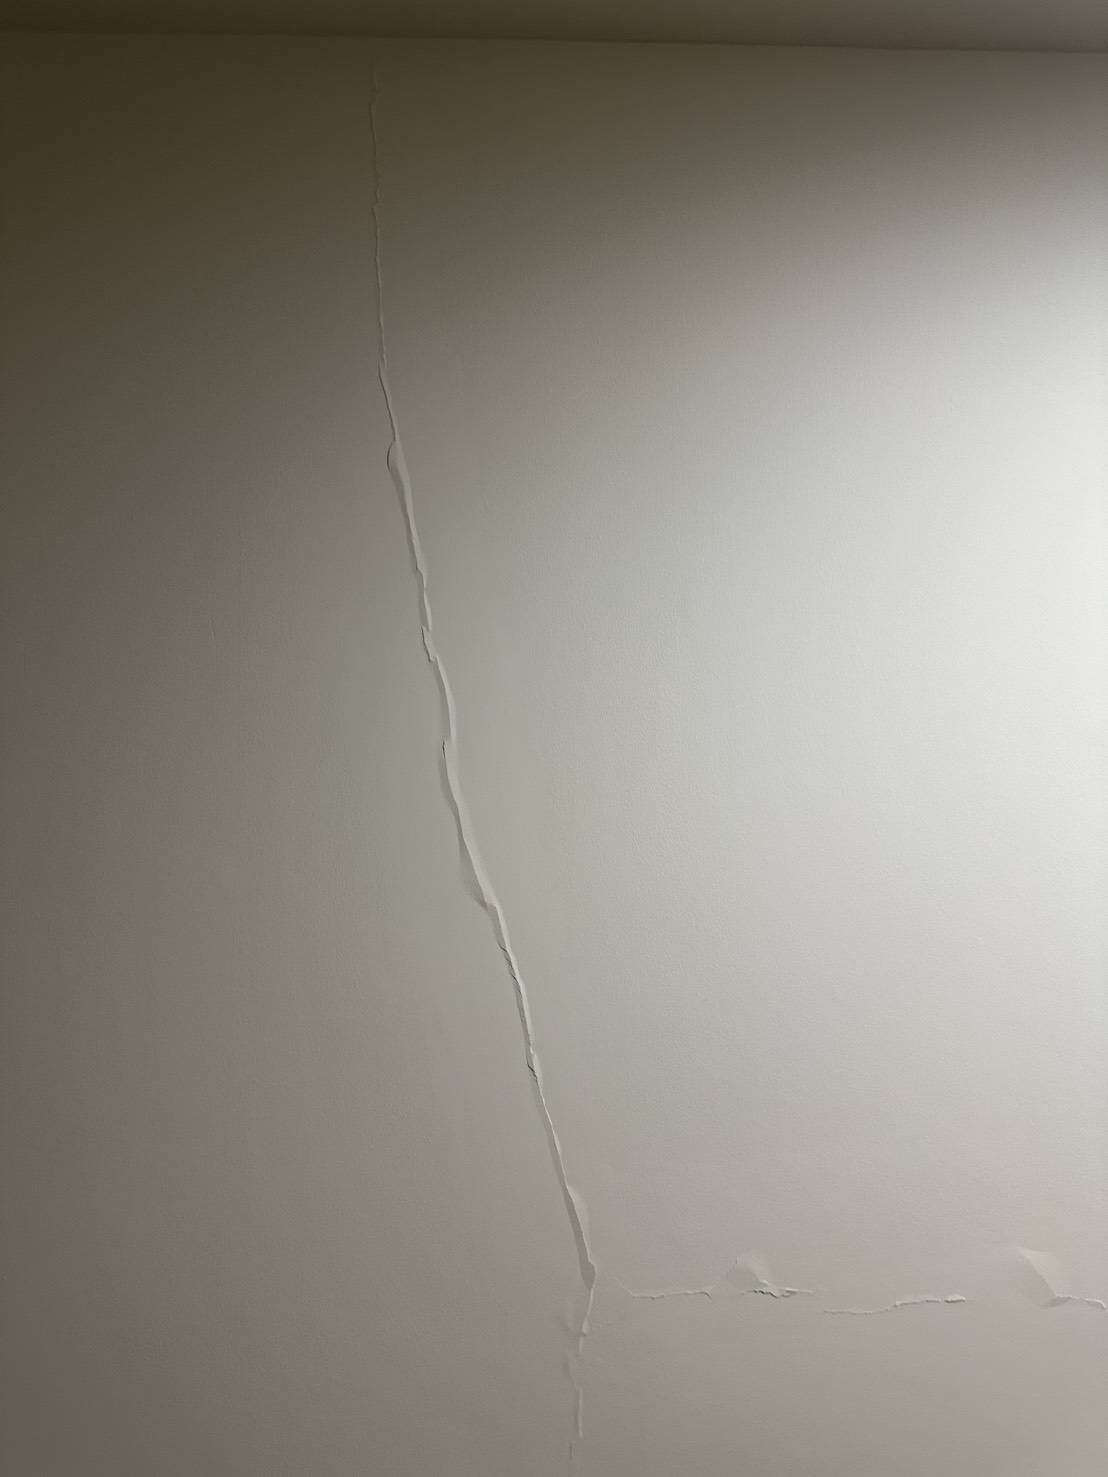Low: (347, 72, 661, 1477)
